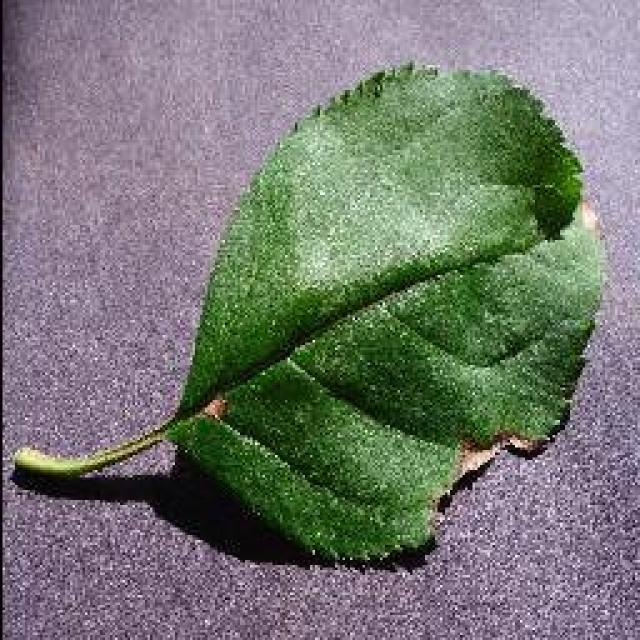Black_rot: (10, 57, 608, 565)
